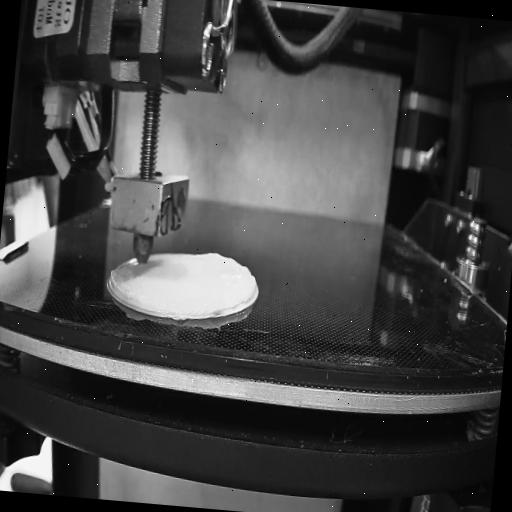over_extrusion: (199, 248, 261, 324), (106, 274, 136, 300)
